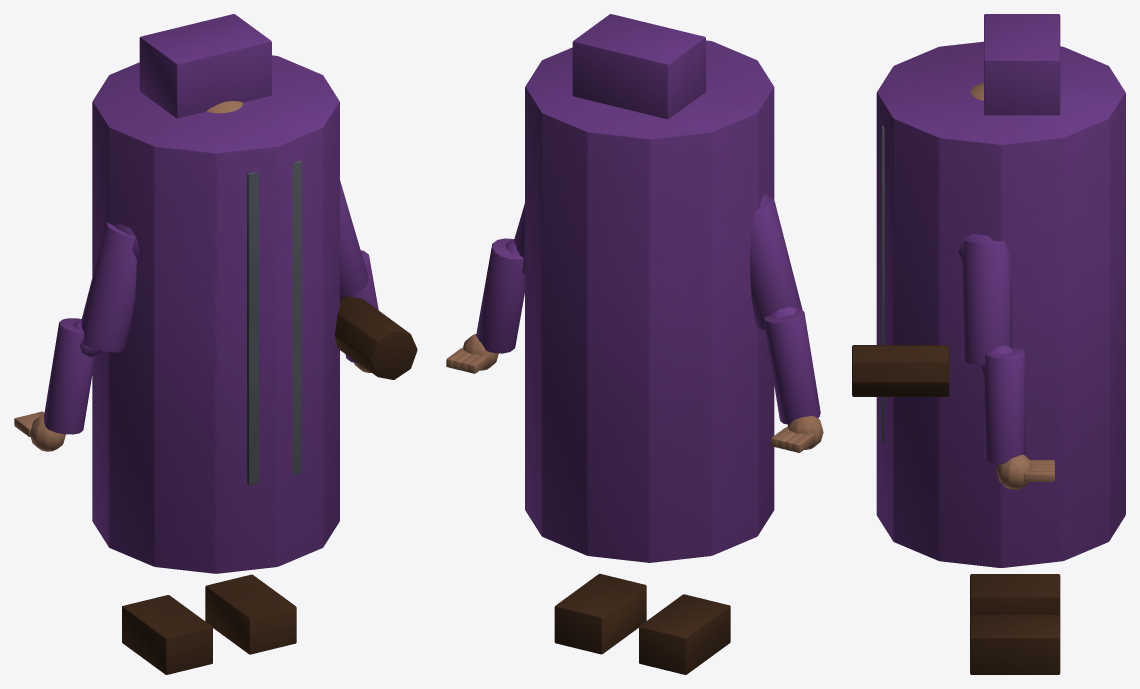
Rendered from unit_veiled_night_abbot.fbx.
3 views of the same model, side by side, from view 1: azimuth 30°, elevation 25°; view 2: azimuth 150°, elevation 25°; view 3: azimuth 270°, elevation 25° (orthographic).
Parts seen in each view (by area): view 1: unit_veiled_night_abbot; view 2: unit_veiled_night_abbot; view 3: unit_veiled_night_abbot.
Part boxes in pixels (x1=…): unit_veiled_night_abbot: x1=14, y1=14, x2=417, y2=674; unit_veiled_night_abbot: x1=446, y1=14, x2=823, y2=674; unit_veiled_night_abbot: x1=852, y1=14, x2=1125, y2=674.
Size of the model in its own units: 1.18 by 1.93 by 0.7893.
